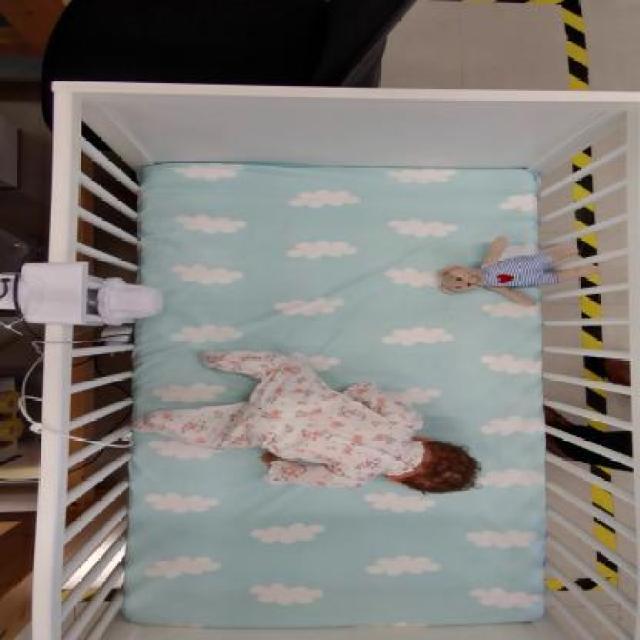baby: (128, 348, 484, 497)
